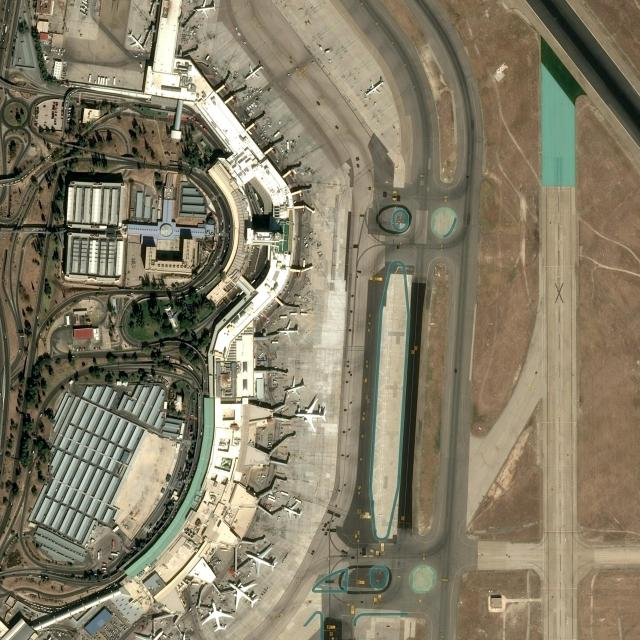1: (193, 0, 218, 19)
aircraft: (293, 398, 325, 430), (200, 601, 233, 632), (228, 579, 260, 608), (247, 548, 279, 574), (125, 29, 146, 52), (281, 500, 303, 520), (243, 61, 264, 80), (365, 77, 385, 96)
